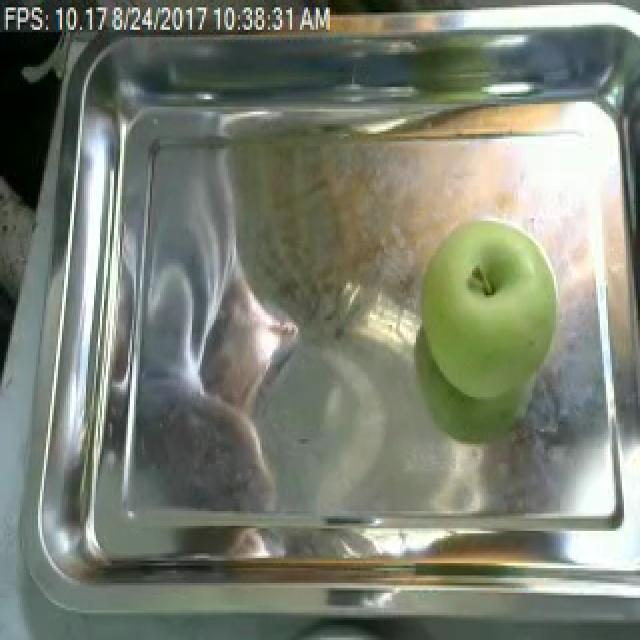50-_ripeness: (410, 211, 576, 410)
